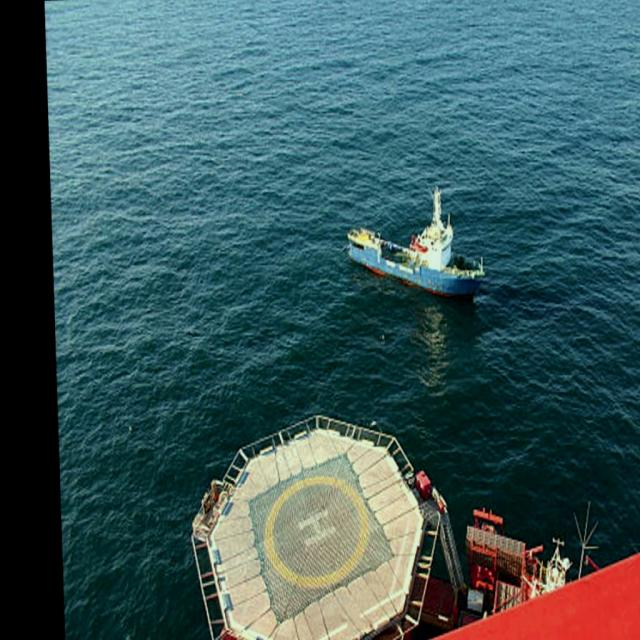helipad: (258, 474, 373, 590)
